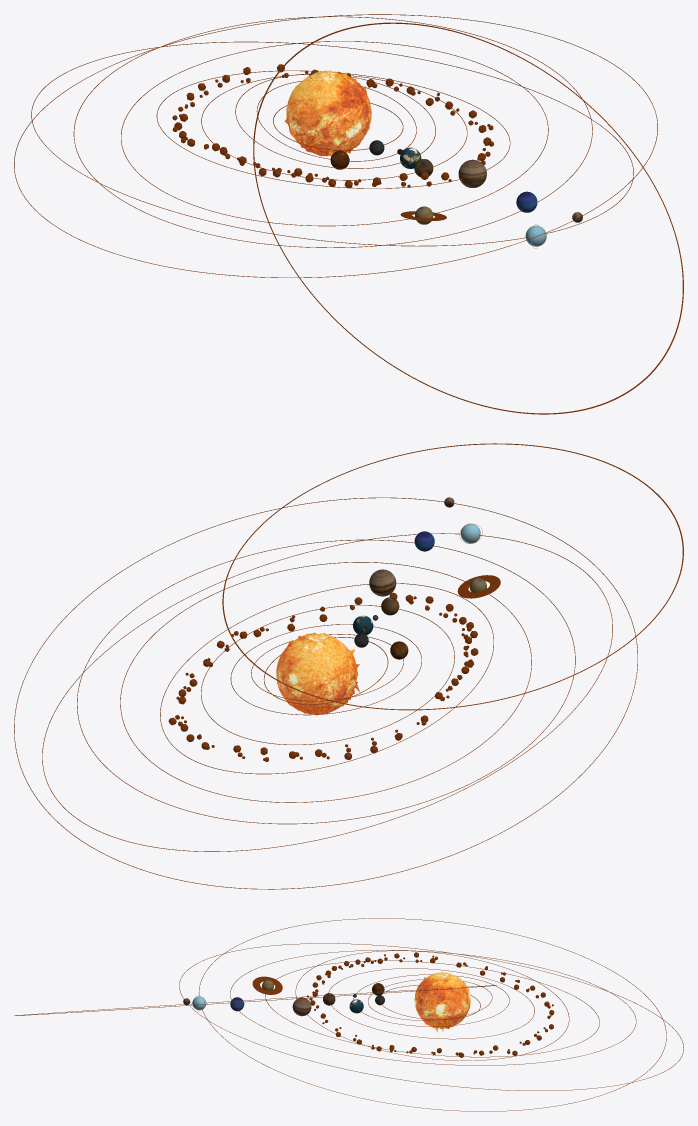
Rendered from sun.glb.
3 renders of one model, top to bottom at view 1: azimuth 30°, elevation 25°; view 2: azimuth 150°, elevation 25°; view 3: azimuth 270°, elevation 25°, orthographic. The views are drawn at different scales.
Visible parts, largest first — view 1: Sphere008, asteroides, Circle014, Circle013, Circle012, Circle011, Circle010, Circle009, Sphere012; view 2: Sphere008, asteroides, Circle014, Circle013, Circle012, Circle011, Circle010, Circle009, Circle008; view 3: Sphere008, asteroides, Circle013, Circle012, Circle011, Circle014, Circle010, Circle009, Circle008, Tube001.
Part boxes in pixels (x1=…): Sphere008: x1=284, y1=70, x2=371, y2=156; asteroides: x1=172, y1=64, x2=493, y2=188; Circle014: x1=253, y1=22, x2=683, y2=414; Circle013: x1=14, y1=14, x2=657, y2=277; Circle012: x1=31, y1=41, x2=633, y2=246; Circle011: x1=73, y1=16, x2=592, y2=247; Circle010: x1=121, y1=41, x2=548, y2=226; Circle009: x1=156, y1=70, x2=510, y2=188; Sphere012: x1=458, y1=159, x2=486, y2=187; Sphere008: x1=276, y1=632, x2=360, y2=716; asteroides: x1=168, y1=592, x2=478, y2=761; Circle014: x1=222, y1=443, x2=683, y2=710; Circle013: x1=14, y1=497, x2=637, y2=889; Circle012: x1=42, y1=533, x2=612, y2=851; Circle011: x1=77, y1=539, x2=575, y2=824; Circle010: x1=120, y1=562, x2=531, y2=802; Circle009: x1=160, y1=583, x2=493, y2=774; Circle008: x1=201, y1=605, x2=454, y2=744; Sphere008: x1=414, y1=972, x2=470, y2=1032; asteroides: x1=306, y1=952, x2=554, y2=1057; Circle013: x1=179, y1=943, x2=683, y2=1090; Circle012: x1=198, y1=918, x2=666, y2=1111; Circle011: x1=230, y1=950, x2=636, y2=1065; Circle014: x1=14, y1=985, x2=497, y2=1015; Circle010: x1=265, y1=960, x2=599, y2=1057; Circle009: x1=295, y1=950, x2=569, y2=1060; Circle008: x1=328, y1=968, x2=534, y2=1039; Tube001: x1=252, y1=976, x2=282, y2=994.
Size of the model in its own units: 2.24 by 0.6136 by 3.75.
Materials: 12 (11 with a texture image).
